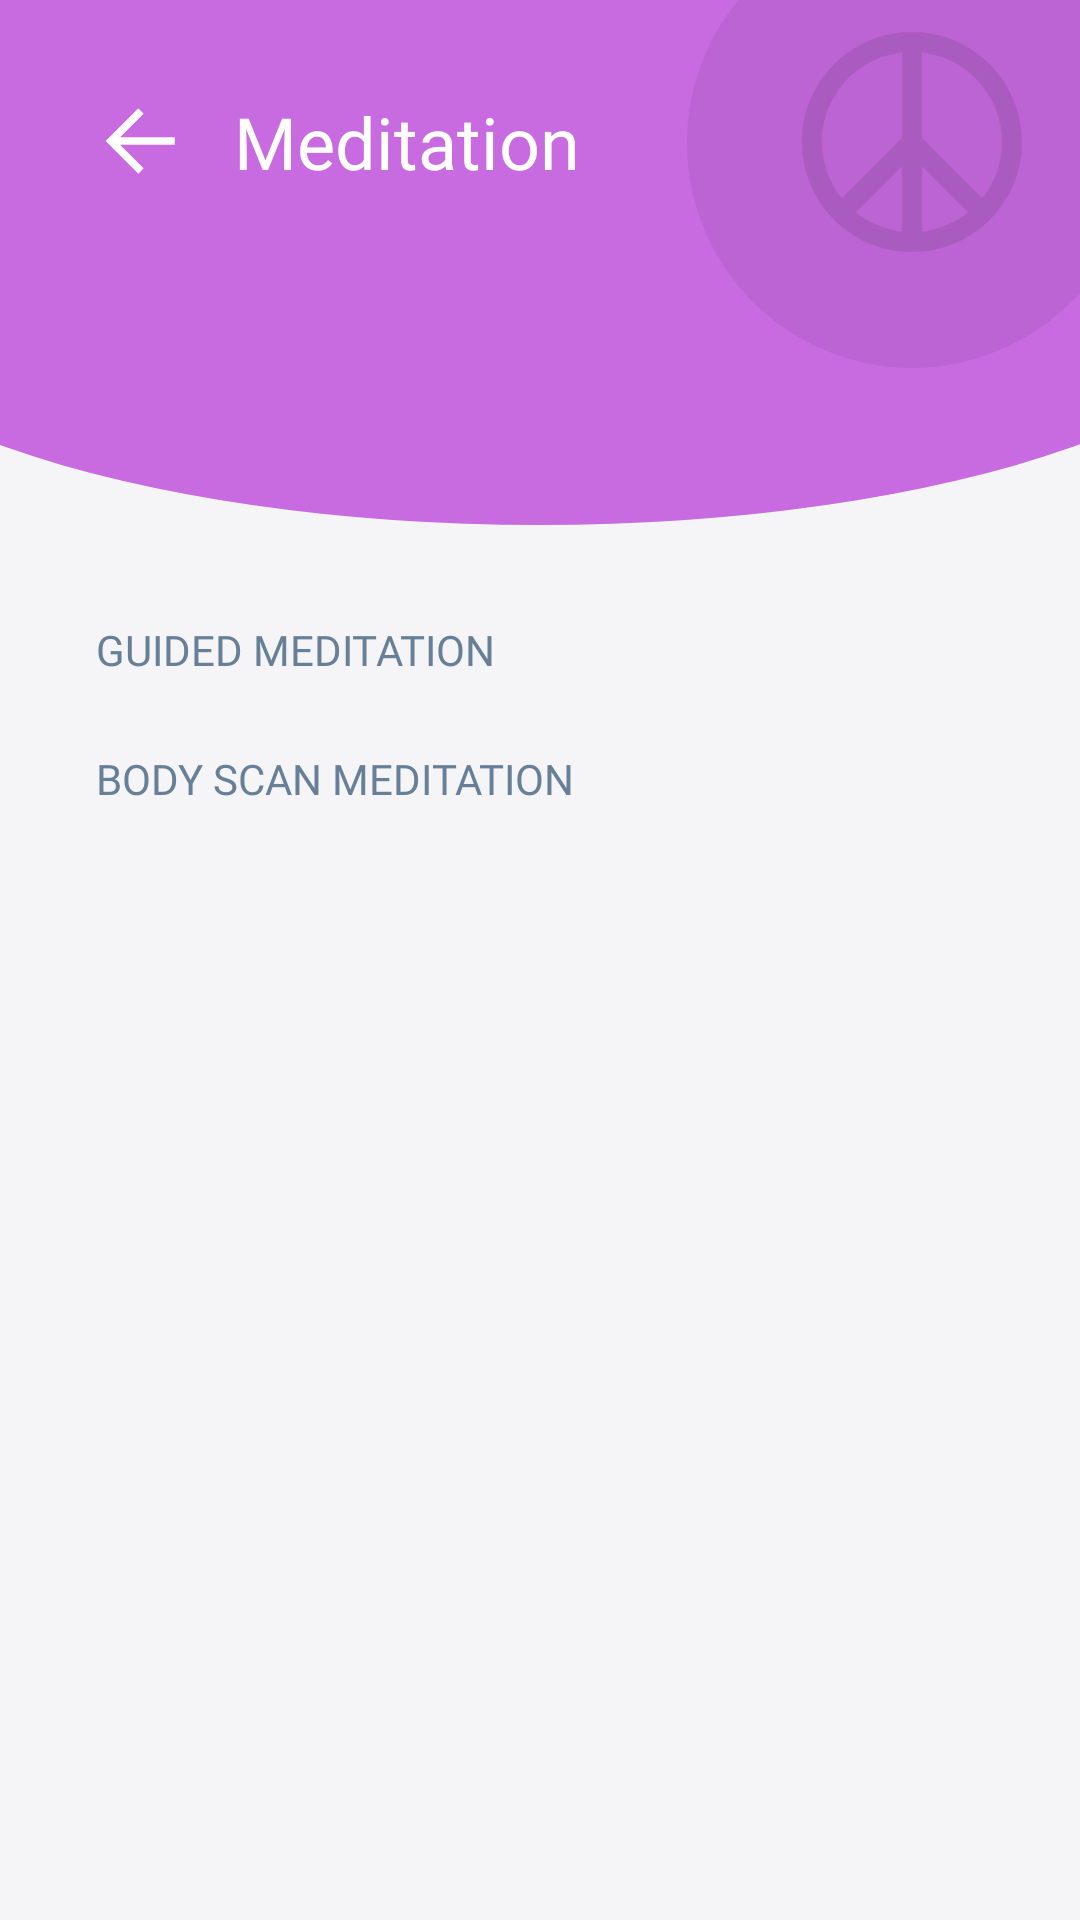

Icon click points for this 1080*1920 phone screenshot, format point (x, y):
return: point (140, 141)
